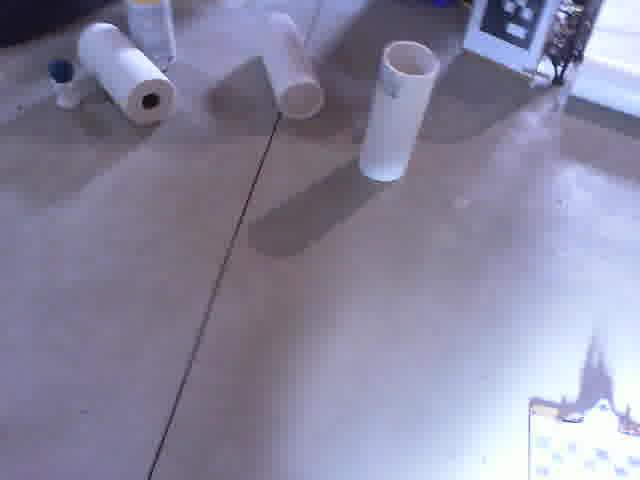coral: (351, 32, 449, 185), (253, 6, 327, 122), (125, 0, 182, 75)
